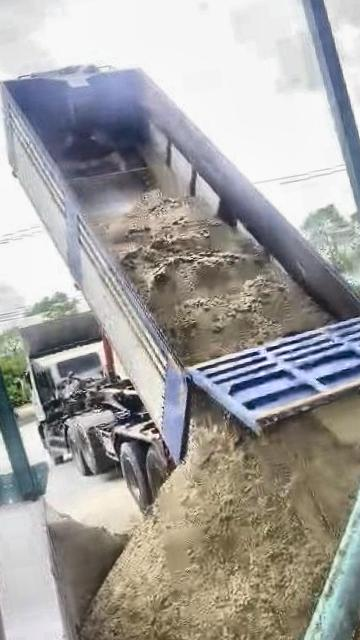sand: (82, 390, 360, 640), (98, 193, 330, 362), (51, 512, 124, 626), (331, 426, 360, 640)
